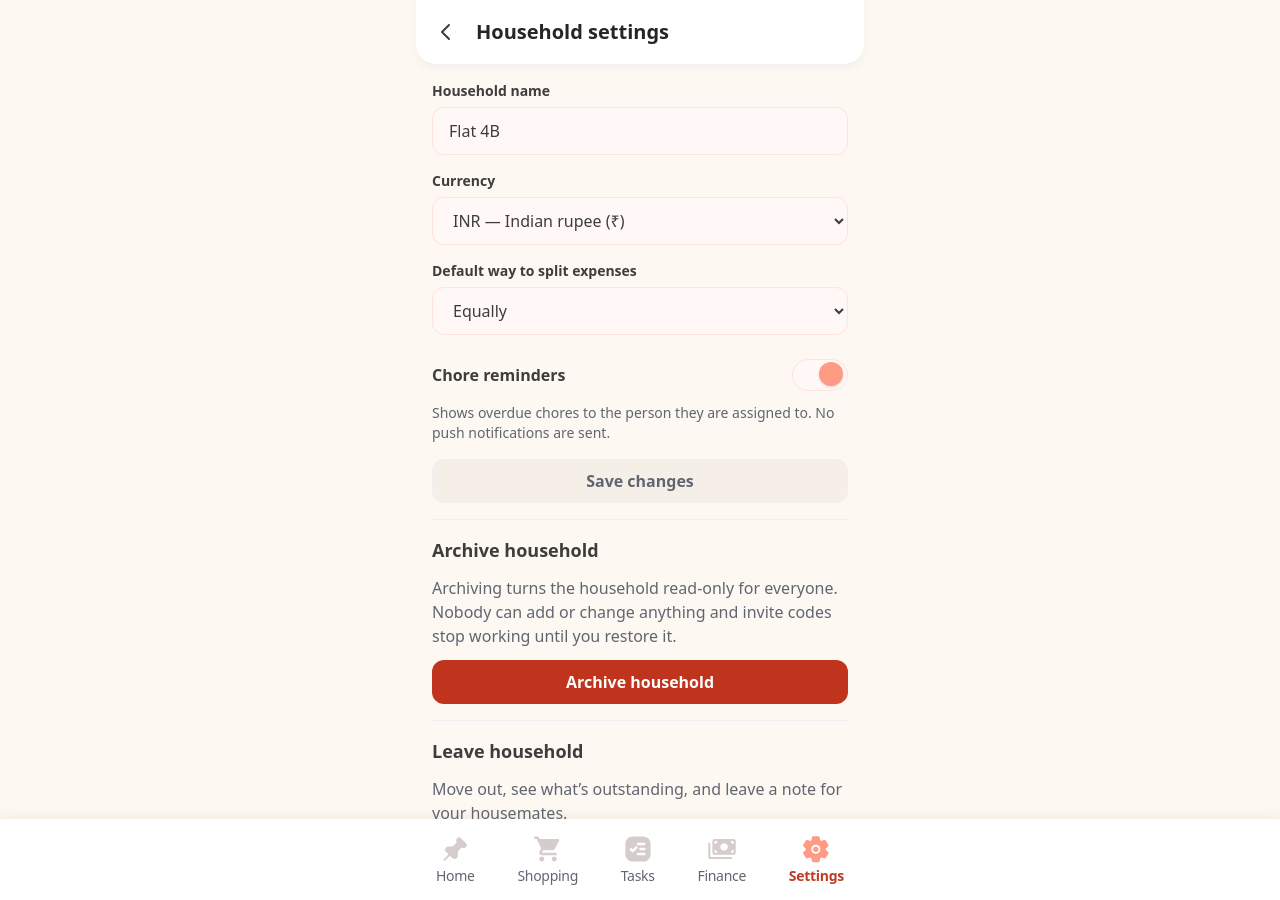
it: household settings › lets the owner edit and saves only what changed, with the current version
The width and height of the screenshot is (1280, 900).
Replace the text in the field labelled "Household name" with "Flat 5C" at (640, 131), box [432,107,848,155]
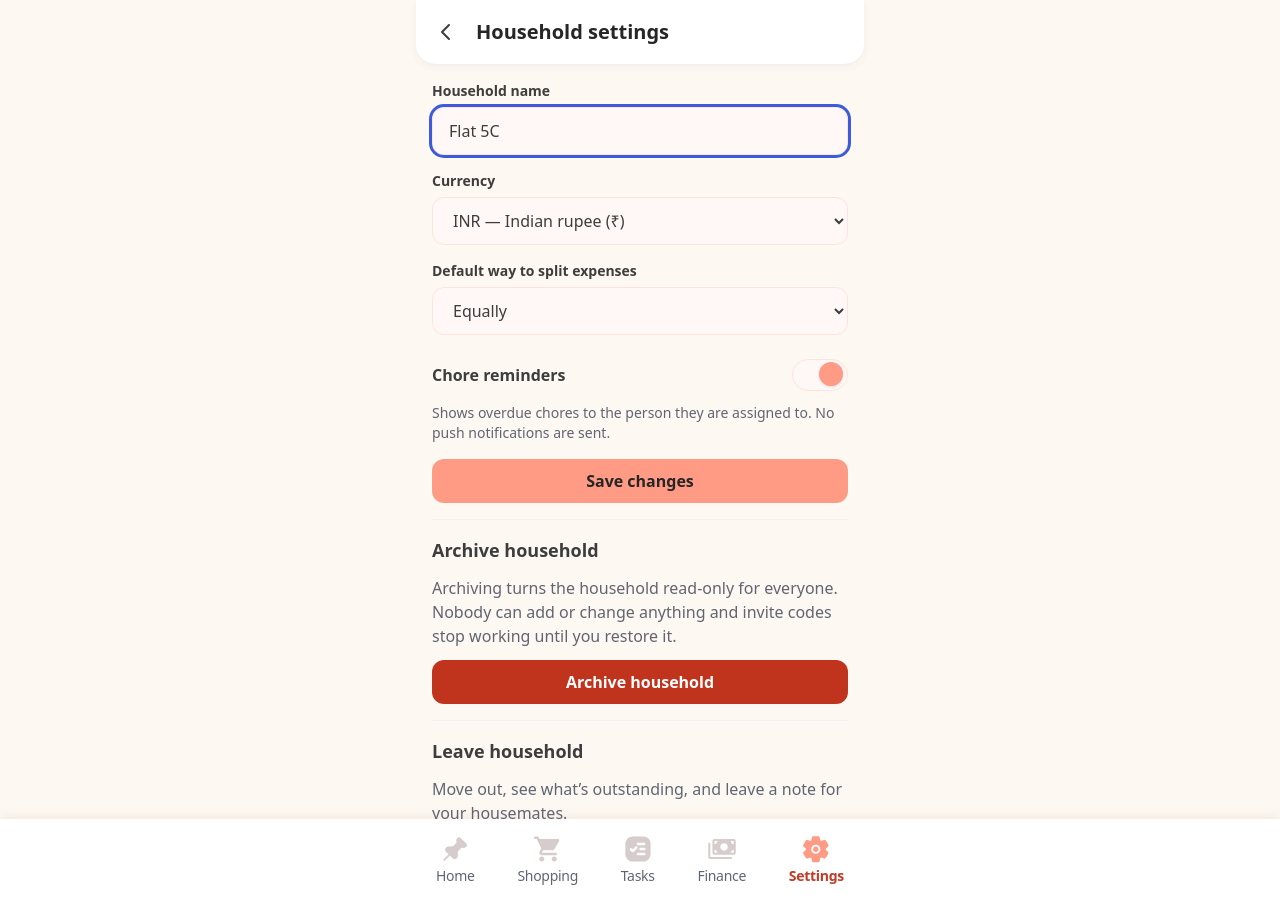
Click the button "Save changes" at (640, 481), box [432,459,848,503]
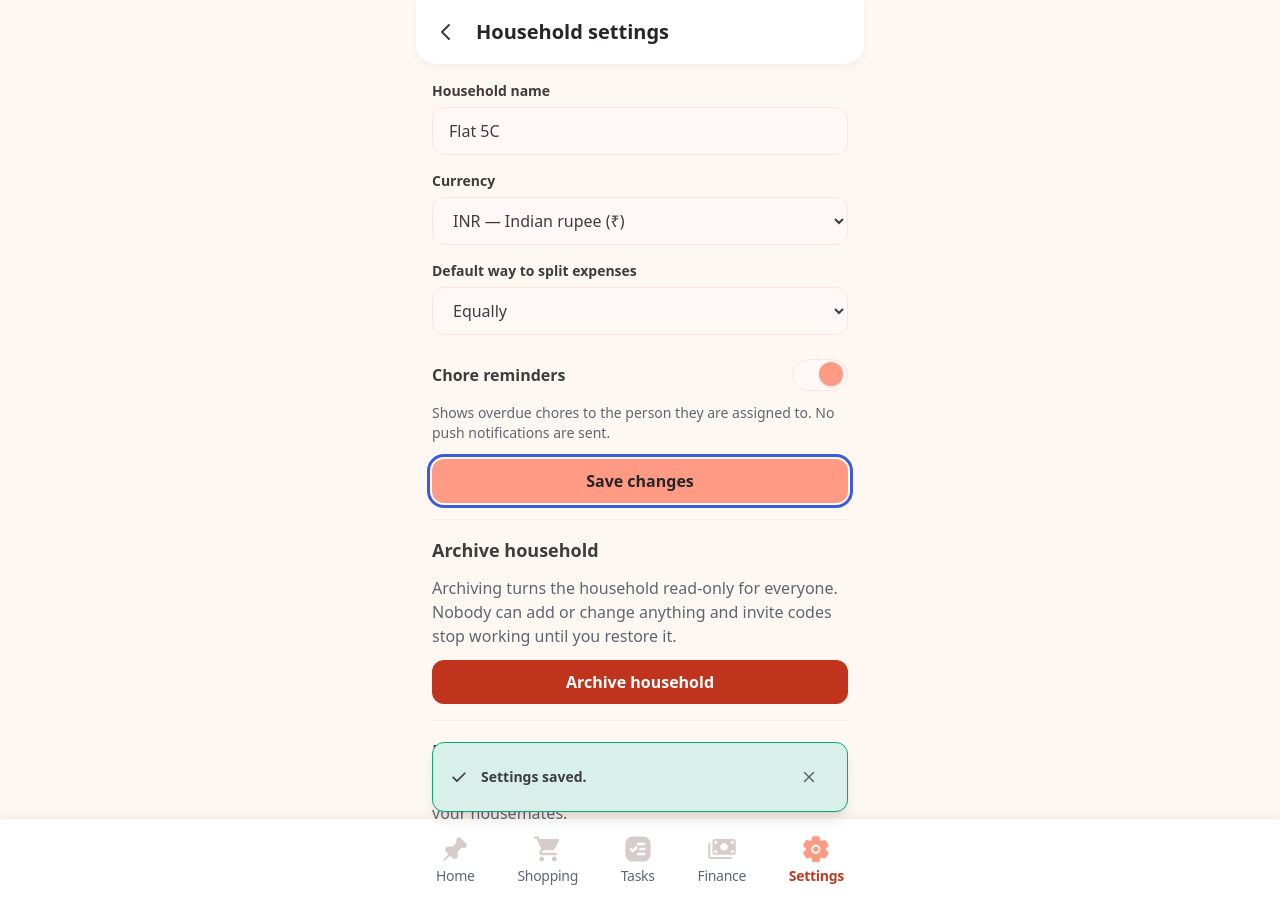
Check: the text "Settings saved." is shown, box [481,767,587,786]
